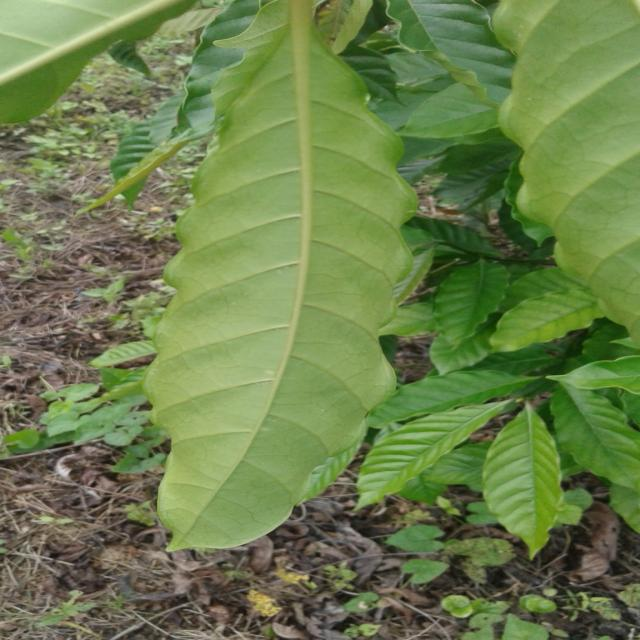Sanas: (143, 0, 417, 553)
